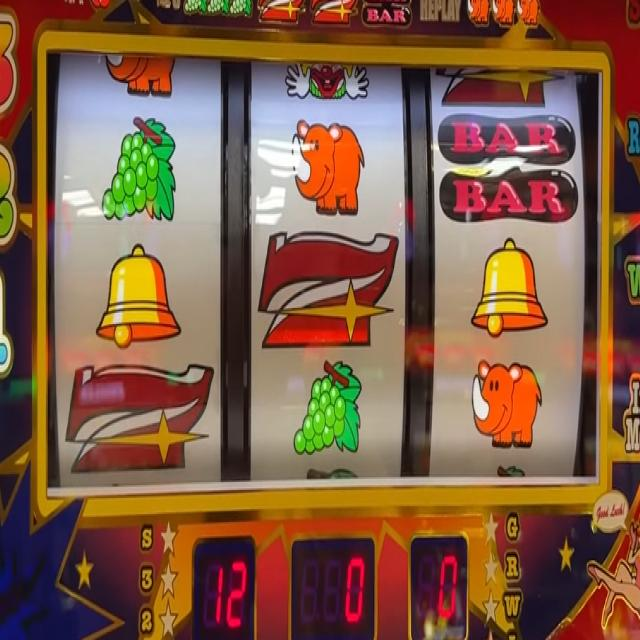bar: (438, 113, 579, 218), (361, 0, 411, 27)
bell: (94, 240, 182, 342), (471, 238, 549, 340)
clown: (284, 62, 368, 103)
display: (40, 44, 601, 484)
elephant: (294, 119, 368, 217), (470, 356, 544, 447), (103, 52, 175, 98), (488, 0, 514, 27), (464, 0, 490, 26), (518, 0, 539, 26)
grape: (102, 113, 175, 221), (292, 360, 364, 456), (230, 0, 252, 22), (184, 0, 206, 14), (205, 0, 226, 13)
z: (62, 362, 213, 476), (258, 230, 399, 347), (436, 58, 566, 104), (310, 0, 354, 30), (257, 0, 302, 23)
